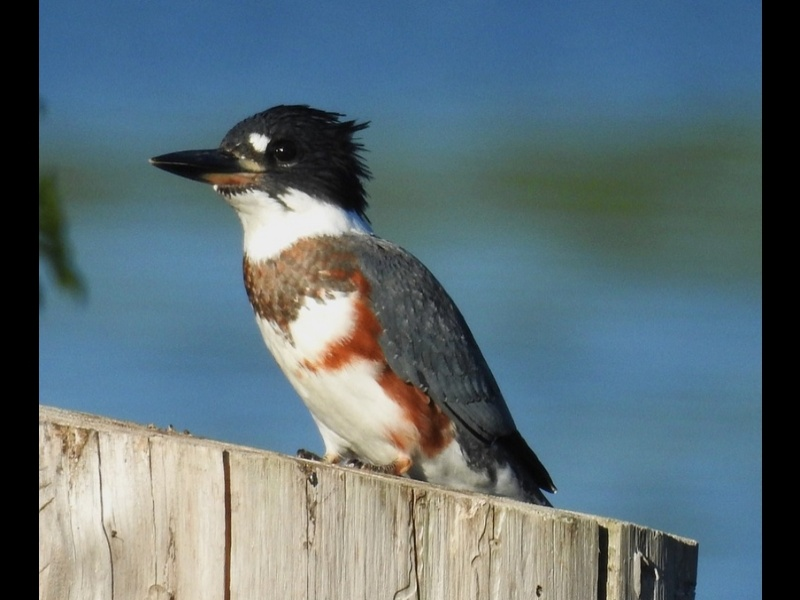kingfisher: (146, 97, 561, 519)
